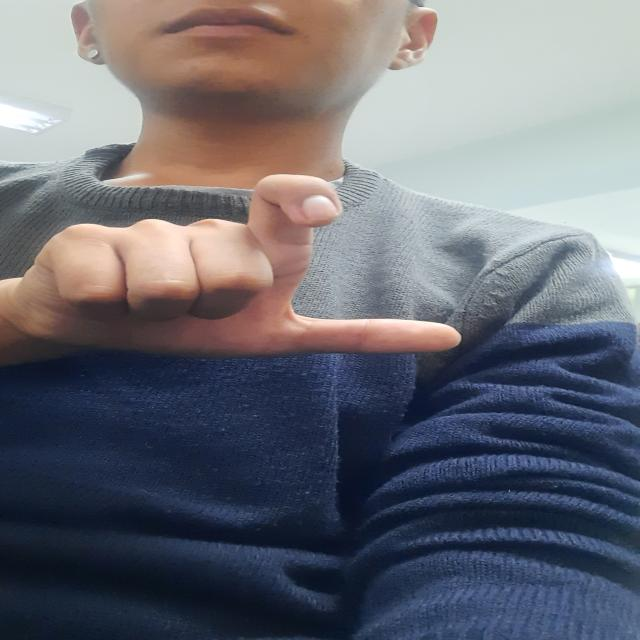G: (0, 170, 481, 362)
